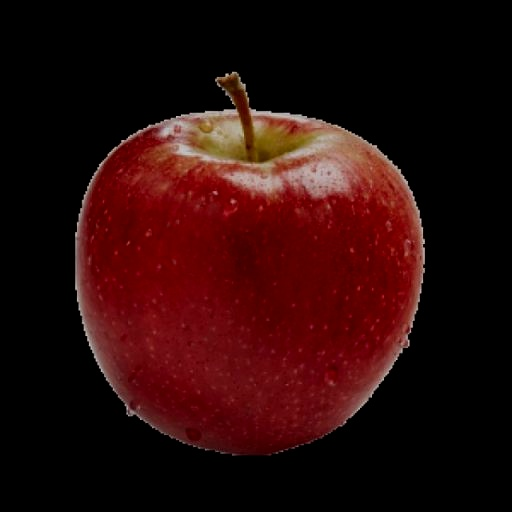fruit: (76, 76, 422, 454)
